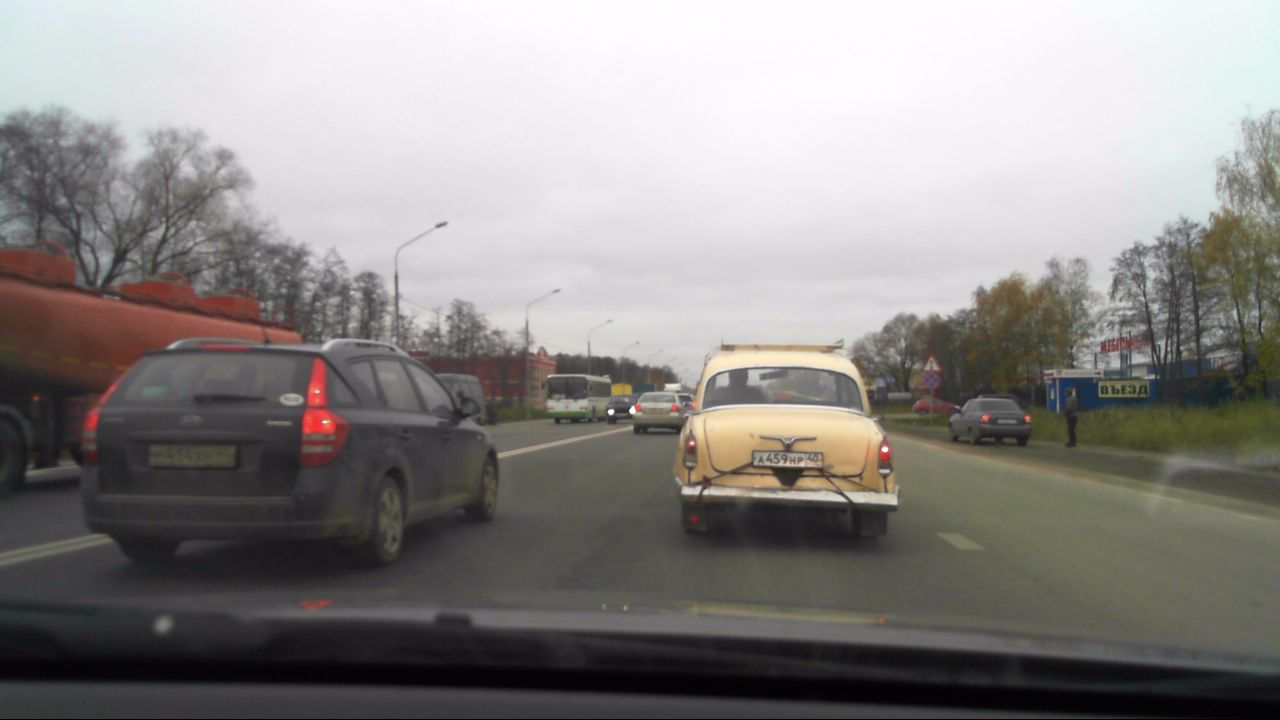No Parking: (919, 371, 942, 392)
